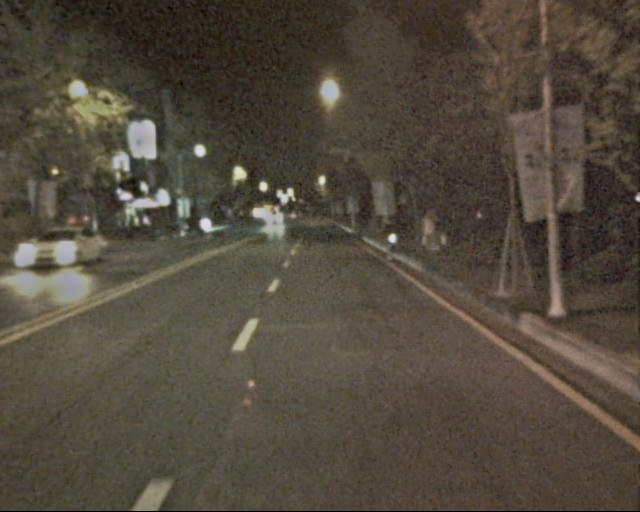person: (419, 214, 436, 256), (428, 213, 445, 255), (382, 220, 398, 258)
